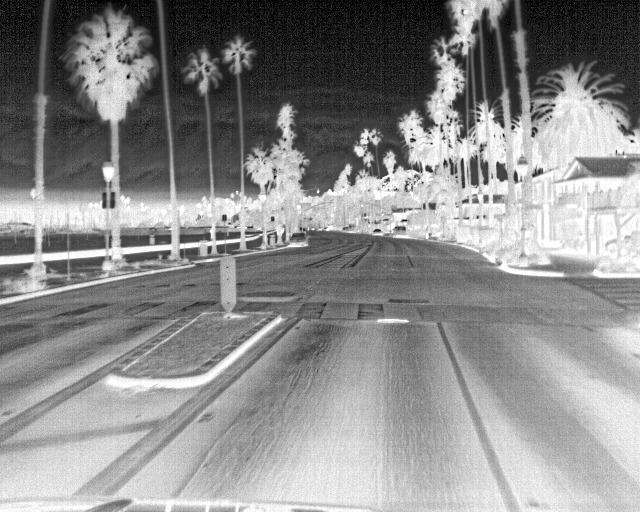car: (287, 229, 310, 249), (390, 223, 408, 239), (371, 227, 382, 237)
